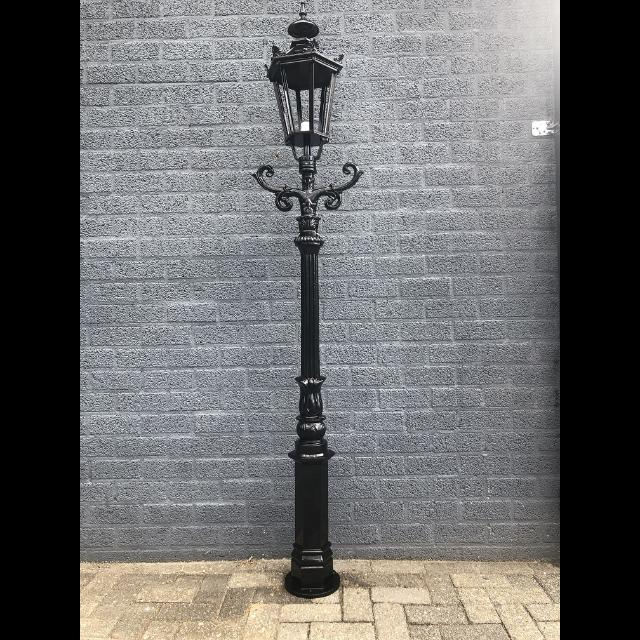Street-Lamp: (252, 3, 366, 601)
